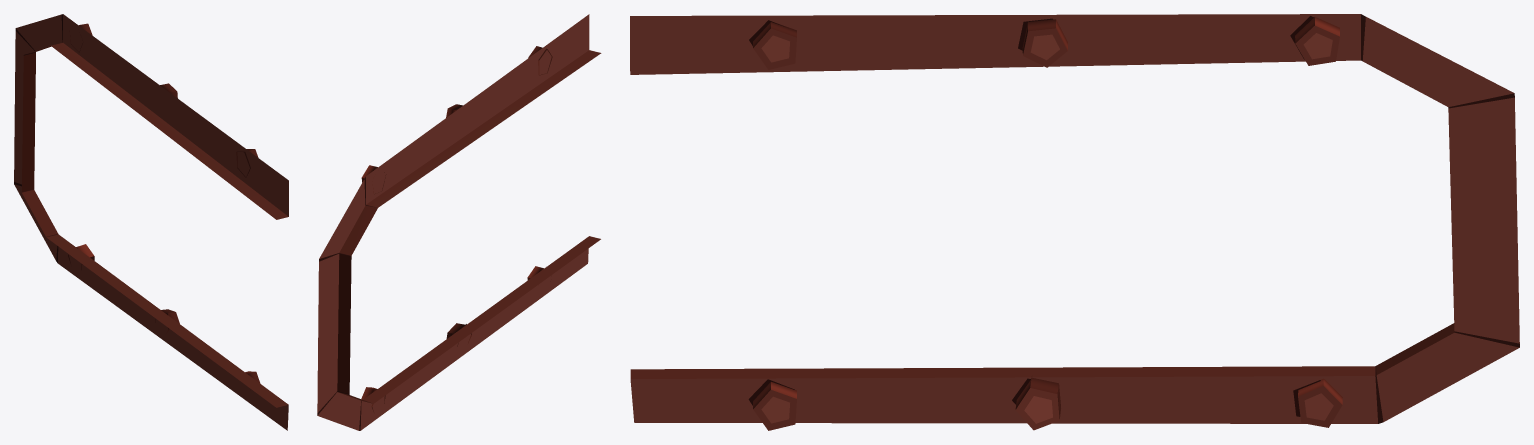
Rendered from BeamWallBack.fbx.
3 views of the same model, side by side, from view 1: azimuth 30°, elevation 25°; view 2: azimuth 150°, elevation 25°; view 3: azimuth 270°, elevation 25° (orthographic). The views are drawn at different scales.
Visible parts, largest first — view 1: BeamWallBack; view 2: BeamWallBack; view 3: BeamWallBack.
Part boxes in pixels (box(x1,y1,x2,y2)): BeamWallBack: box(14, 14, 288, 430); BeamWallBack: box(317, 14, 601, 430); BeamWallBack: box(630, 14, 1519, 430).
Bounding box in the file's own units: 12.99 × 123 × 242.
